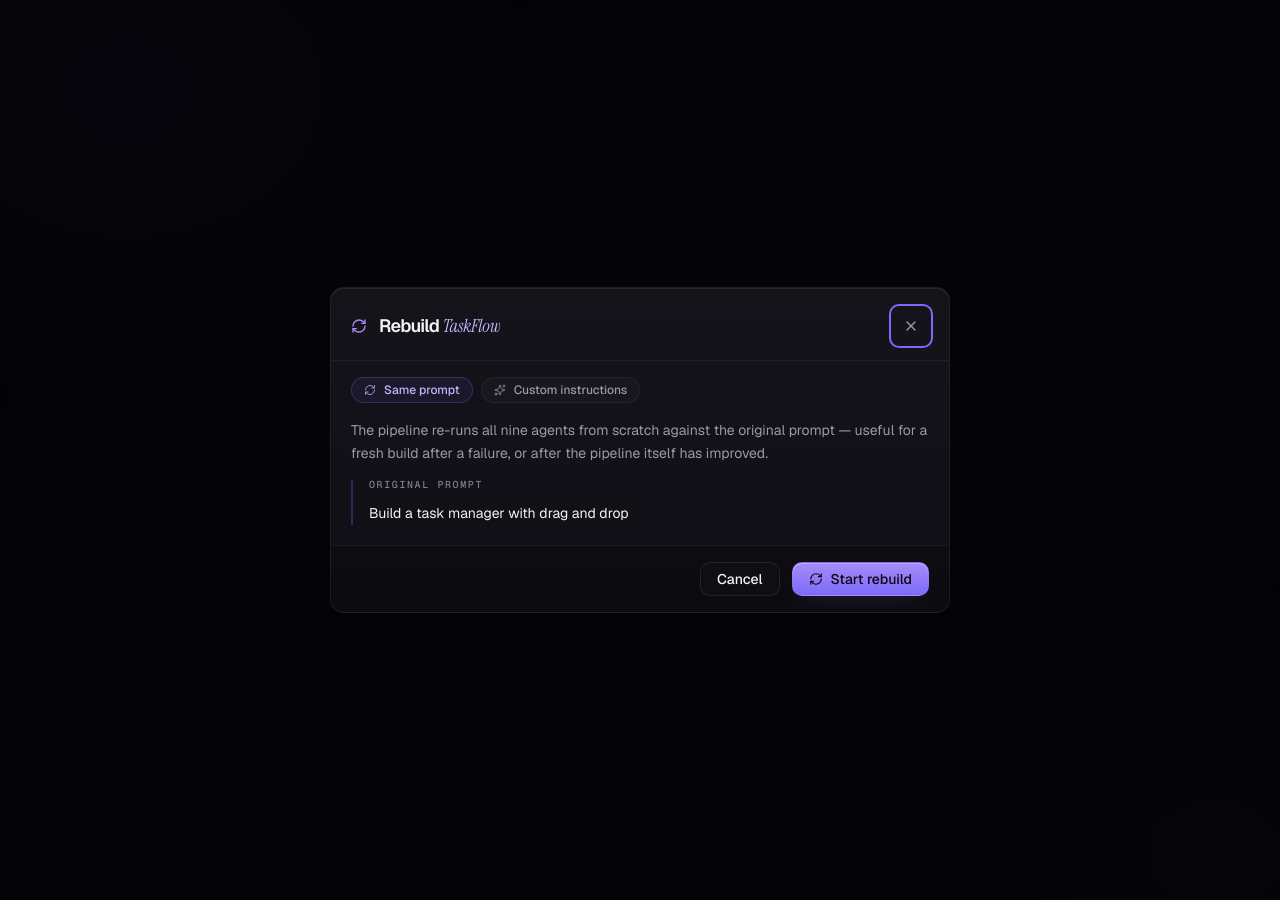
RebuildModal › custom-instruction mode › switches to the composer
Click the button "Custom instructions" at [560, 390], box [481, 377, 640, 403]
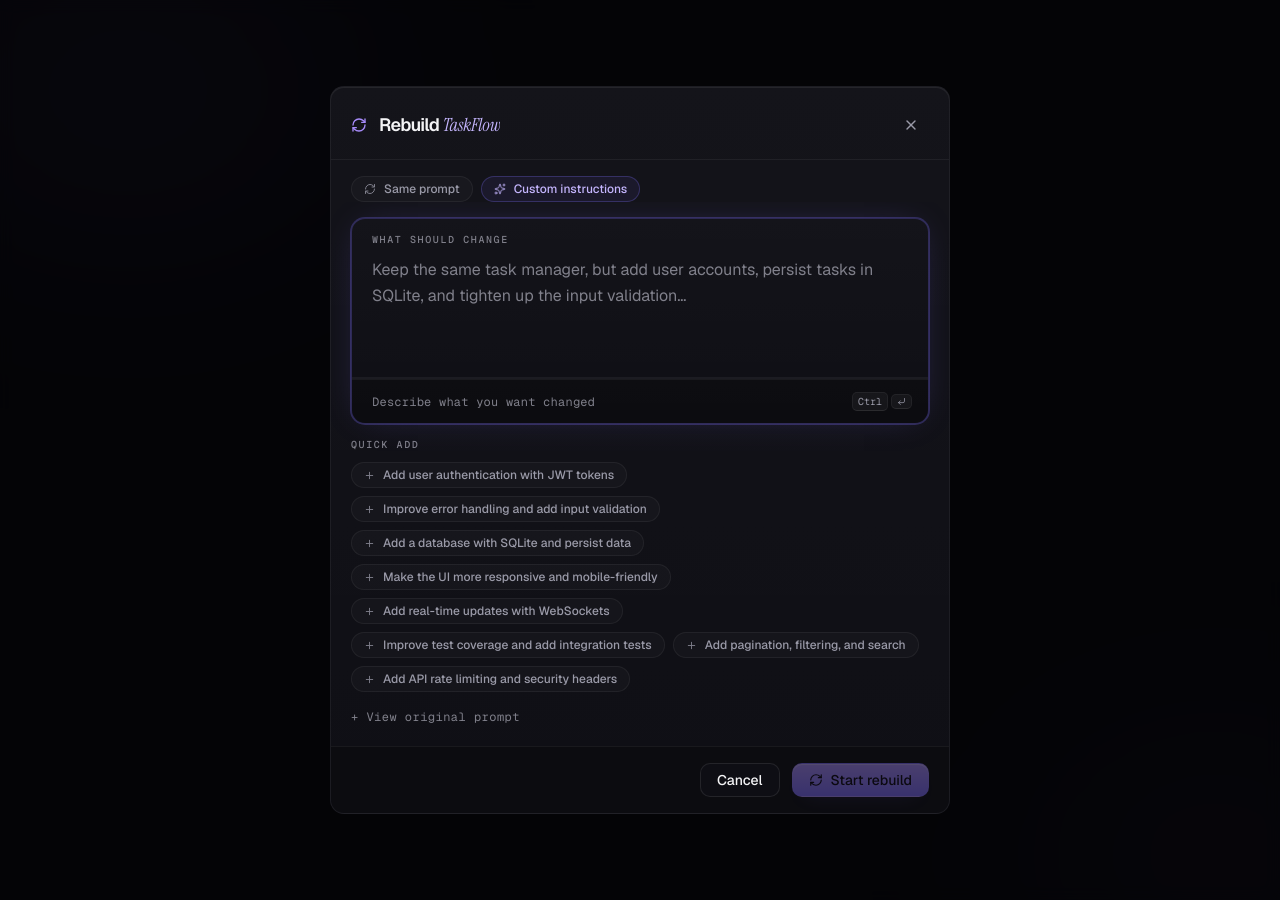
Now the text box labelled "What should change" is shown, box [352, 245, 928, 377]
